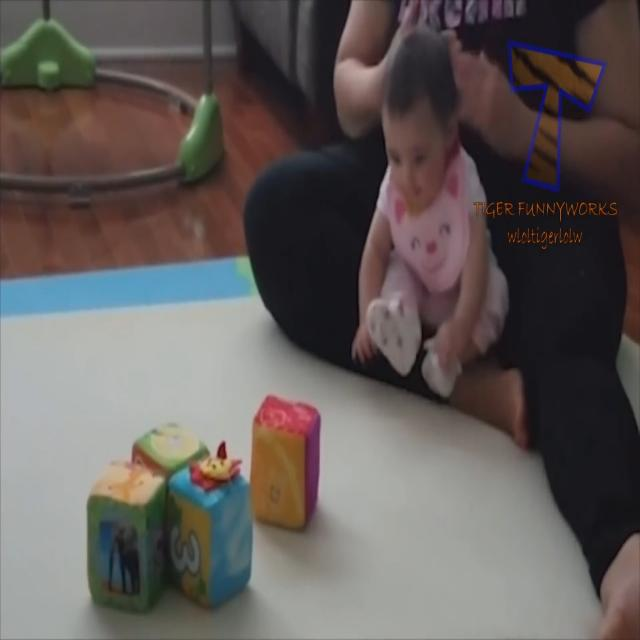safe: (351, 27, 511, 398)
